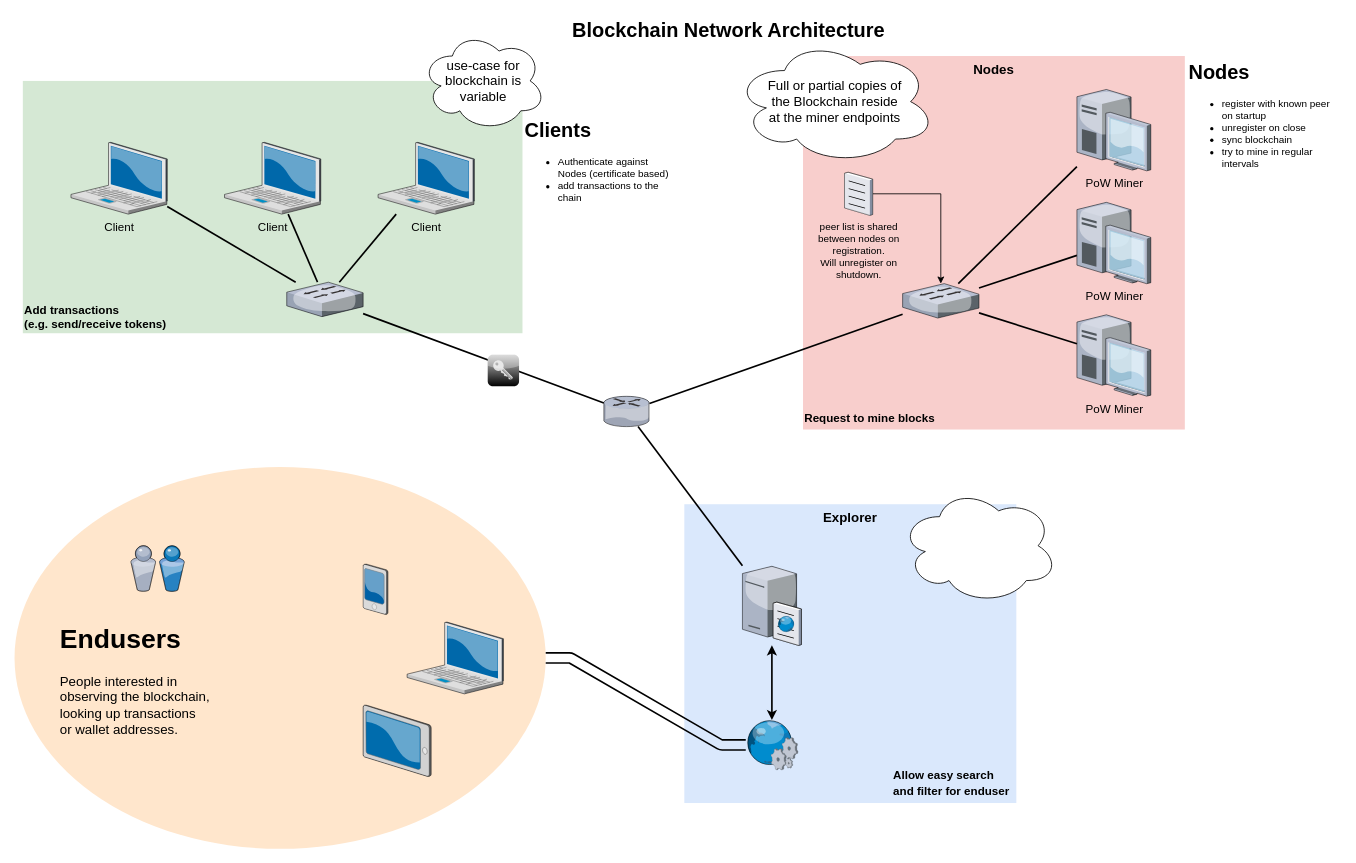
Image size: 1356x863. Some labels were removed from this diagram. Here are the shapes that lost their labels. From the top down, the box of each, then its label:
(22, 81, 522, 333): Blockchain Users
(487, 354, 519, 386): only authenticated clients are able to add transactions
(899, 487, 1058, 604): Stores a full copy of the Blockchain for transparency
(742, 564, 801, 645): Blockchain Explorer Server
(745, 720, 798, 769): Flask App
